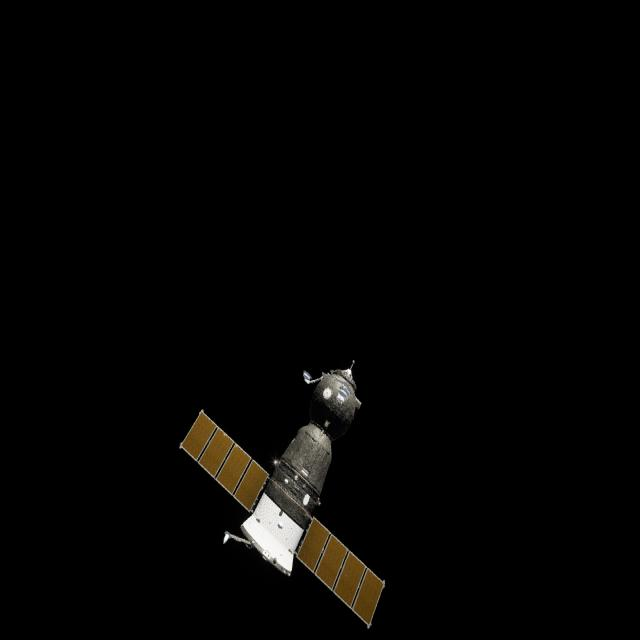Satellites revolving around earth: (177, 357, 387, 630)
